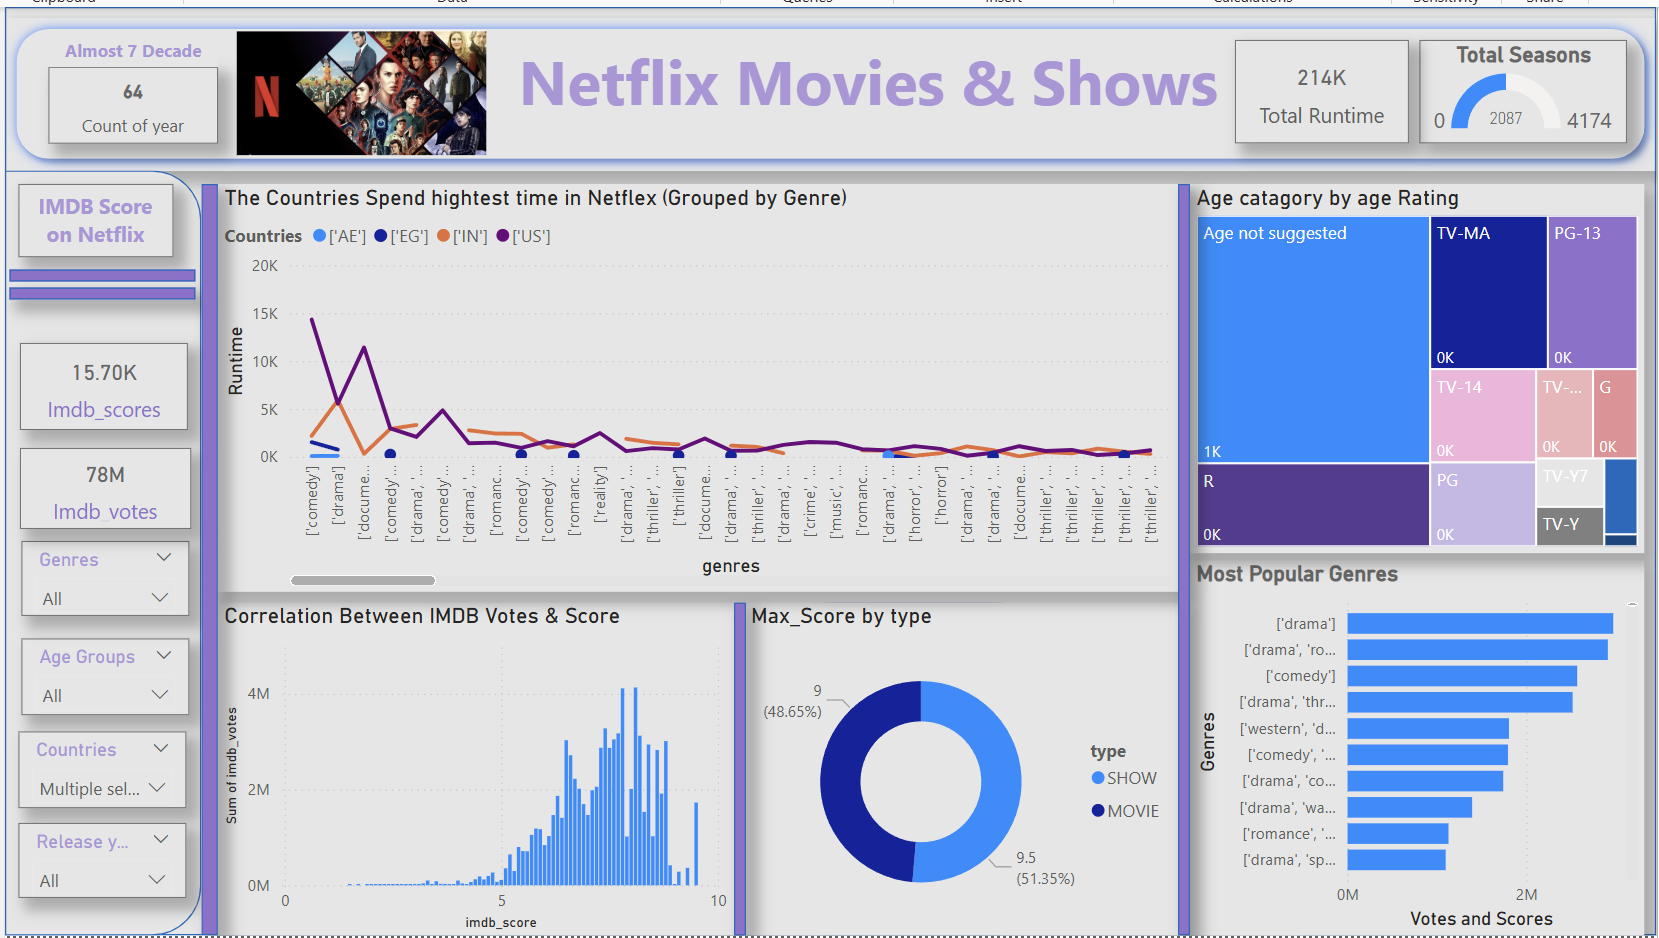

The page's visual inventory and layout, read from the dashboard file:
{"tool":"powerbi","page":{"name":"Netflix Movies & Shows","canvas":[1280,720],"ordinal":0},"visuals":[{"type":"shape","box":[0,0,1279.5,176.9],"z":0},{"type":"shape","box":[1051.9,0,227.7,176.9],"z":1000},{"type":"card","title":"Highest Duration","fields":{"Values":["Max(IMDB Movies_Shows.runtime)"]},"box":[1110.9,21.9,108.3,124.8],"z":2000},{"type":"shape","box":[880.5,0,208.5,176.9],"z":3000},{"type":"shape","box":[683,2.7,231.8,176.9],"z":4000},{"type":"card","title":"Distinct Genres ","fields":{"Values":["Count(IMDB Movies_Shows.genres)"]},"box":[735.1,32.9,131.7,113.8],"z":5000},{"type":"card","title":"Type","fields":{"Values":["Count(IMDB Movies_Shows.type)"]},"box":[932.6,35.7,104.2,116.6],"z":6000},{"type":"shape","box":[500.6,0,224.9,176.9],"z":7000},{"type":"card","title":"Max IMDB Score","fields":{"Values":["IMDB Movies_Shows.Measure"]},"box":[551.3,31.5,122.1,115.2],"z":8000},{"type":"lineChart","title":"Changing Period Over the year","fields":{"Category":["IMDB Movies_Shows.release_year"],"Y":["Sum(IMDB Movies_Shows.seasons)"]},"box":[347,371.7,596.6,348.3],"z":9000},{"type":"shape","box":[0,0,347,178.3],"z":10000},{"type":"image","box":[49.4,0,246.9,176.9],"z":11000},{"type":"shape","box":[309.9,0,219.4,176.9],"z":12000},{"type":"image","box":[353.8,35.7,130.3,108.3],"z":13000},{"type":"clusteredBarChart","title":"Top Rated List by Genres","fields":{"Category":["IMDB Movies_Shows.genres"],"Y":["Sum(IMDB Movies_Shows.imdb_score)"]},"box":[11,460.8,325,259.2],"z":14000},{"type":"stackedAreaChart","title":"Ranking on Rating ","fields":{"Category":["IMDB Movies_Shows.imdb_score"],"Y":["IMDB Movies_Shows.Age_Rating_per_catagory"]},"box":[11,196.1,322.3,253.7],"z":15000},{"type":"gauge","title":"Average Duration","fields":{"Y":["Avg(IMDB Movies_Shows.runtime)"]},"box":[346.9,196,220.6,125.2],"z":16000},{"type":"shape","title":"Most Released Movies By Age","box":[584.2,176.9,296.2,159.1],"z":17000},{"type":"textbox","box":[640.5,234.5,207.1,75.4],"z":18000},{"type":"filledMap","title":"IMDB Score Over the Country ","fields":{"Category":["IMDB Movies_Shows.production_countries"],"Series":["IMDB Movies_Shows.imdb_score"]},"box":[947.7,197.5,325,522.5],"z":19000}]}

Visuals, with their boxes on the page's 1280x720 design canvas (x1, y1, x2, y2). These are canvas units, not pixel positions in the 1659x938 screenshot, which may show the page scaled, cropped or inside an application window:
shape: 0,0,1280,177
shape: 1052,0,1280,177
"Highest Duration" card: 1111,22,1219,147
shape: 880,0,1089,177
shape: 683,3,915,180
"Distinct Genres " card: 735,33,867,147
"Type" card: 933,36,1037,152
shape: 501,0,726,177
"Max IMDB Score" card: 551,32,673,147
"Changing Period Over the year" lineChart: 347,372,944,720
shape: 0,0,347,178
image: 49,0,296,177
shape: 310,0,529,177
image: 354,36,484,144
"Top Rated List by Genres" clusteredBarChart: 11,461,336,720
"Ranking on Rating " stackedAreaChart: 11,196,333,450
"Average Duration" gauge: 347,196,568,321
"Most Released Movies By Age" shape: 584,177,880,336
textbox: 640,234,848,310
"IMDB Score Over the Country " filledMap: 948,198,1273,720
